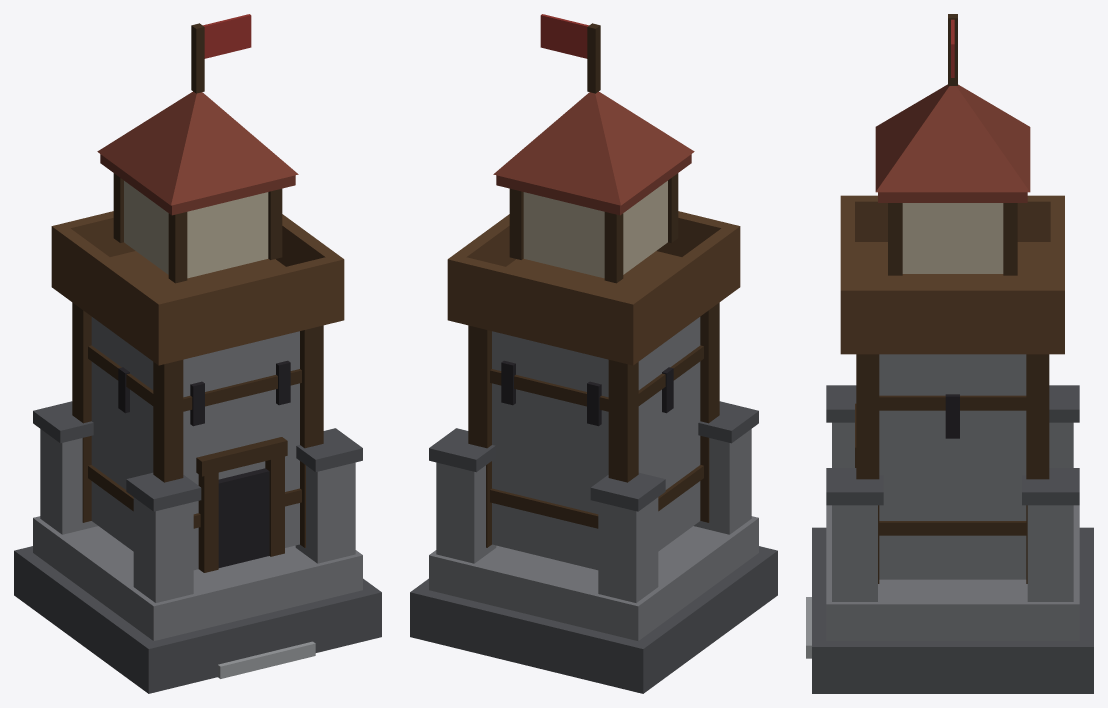
File: base_lowpoly.glb
3 views of the same model, side by side, from view 1: azimuth 30°, elevation 25°; view 2: azimuth 150°, elevation 25°; view 3: azimuth 270°, elevation 25° (orthographic). The views are drawn at different scales.
Parts seen in each view (by area): view 1: lp_base; view 2: lp_base; view 3: lp_base.
Part boxes in pixels (x1,y1,x2,y2): lp_base: [14, 14, 381, 693]; lp_base: [410, 14, 777, 693]; lp_base: [806, 14, 1093, 693].
Size of the model in its own units: 0.98 by 2.37 by 1.
